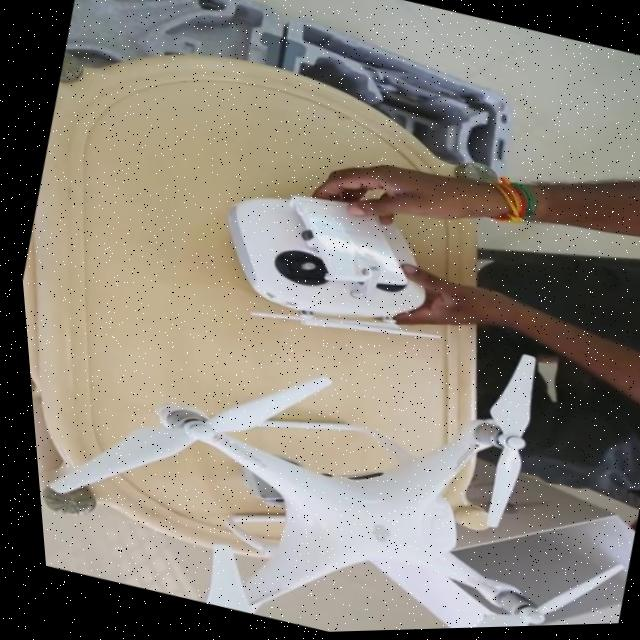drones: (16, 227, 640, 640)
